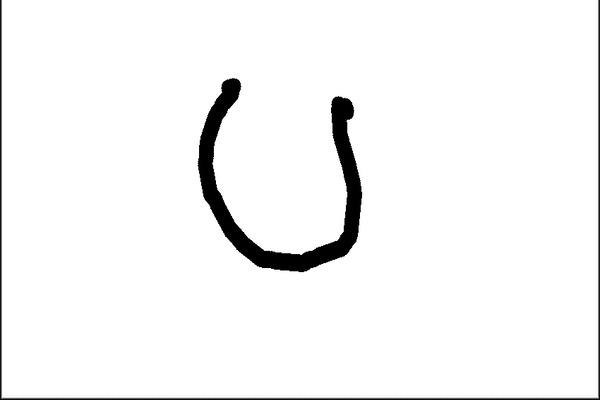U: (189, 65, 370, 286)
